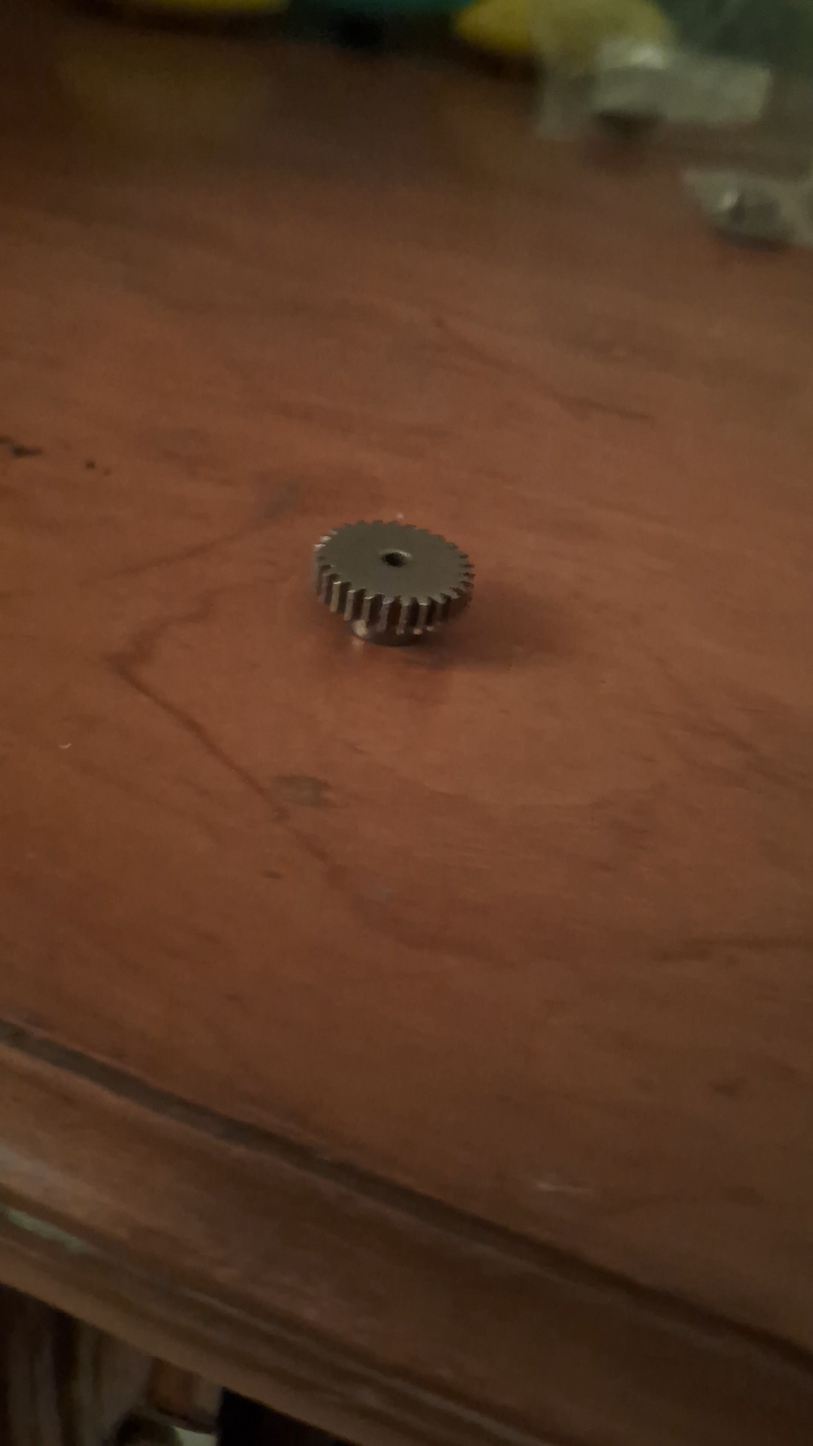spur gear: (313, 522, 473, 643)
